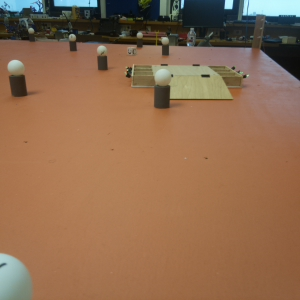blockC: (126, 47, 135, 55)
corner: (252, 16, 262, 48)
obstacle: (8, 60, 27, 98), (154, 72, 169, 108), (95, 44, 107, 72), (161, 37, 169, 56), (69, 33, 77, 51), (135, 32, 142, 49), (29, 28, 35, 44)
side: (215, 64, 250, 89), (123, 62, 149, 86)
slope: (166, 72, 232, 100)
